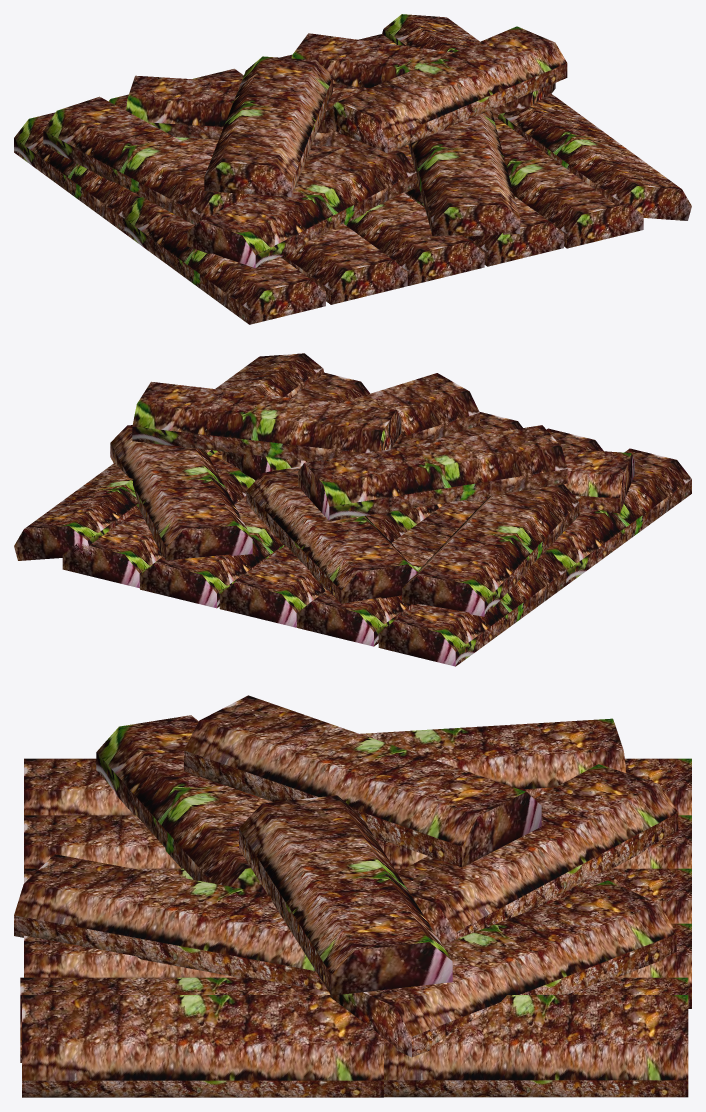
The model's file is SM_FoodServignTableClump_Meat.fbx.
The picture shows the model from 3 angles, top to bottom: view 1: azimuth 30°, elevation 25°; view 2: azimuth 150°, elevation 25°; view 3: azimuth 270°, elevation 25°; orthographic projection. The views are drawn at different scales.
Visible parts, largest first — view 1: FoodClump_Meat; view 2: FoodClump_Meat; view 3: FoodClump_Meat.
Boxes of the visible parts, <box> form: FoodClump_Meat: <box>14,14,691,324</box>; FoodClump_Meat: <box>14,353,691,666</box>; FoodClump_Meat: <box>14,695,691,1097</box>.
Size of the model in its own units: 34.91 by 32.64 by 7.26.
1 material, 1 textured.
